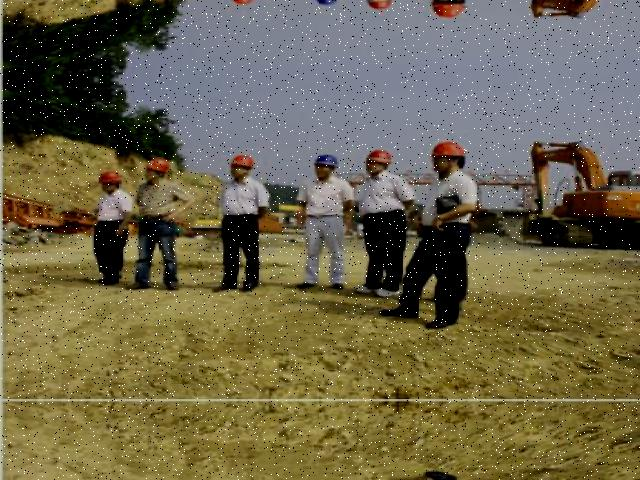Helmet: (428, 139, 472, 161), (363, 145, 397, 169), (143, 153, 177, 175), (312, 149, 345, 170), (229, 151, 260, 172), (97, 165, 127, 186)
